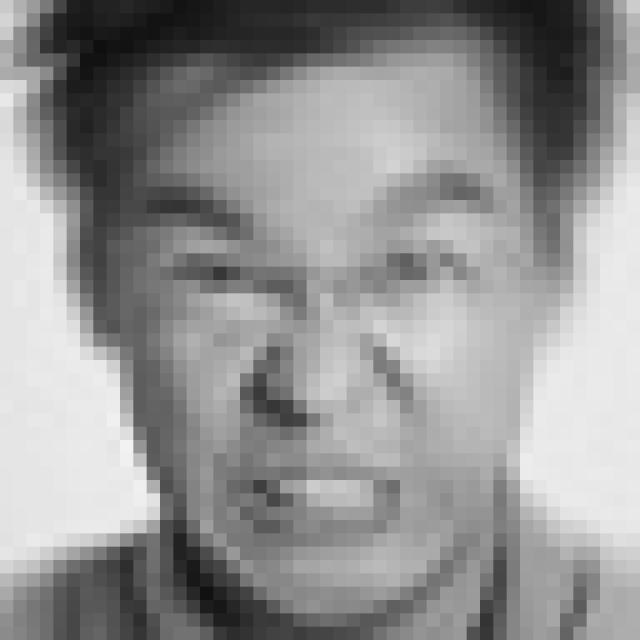angry: (134, 171, 499, 546)
